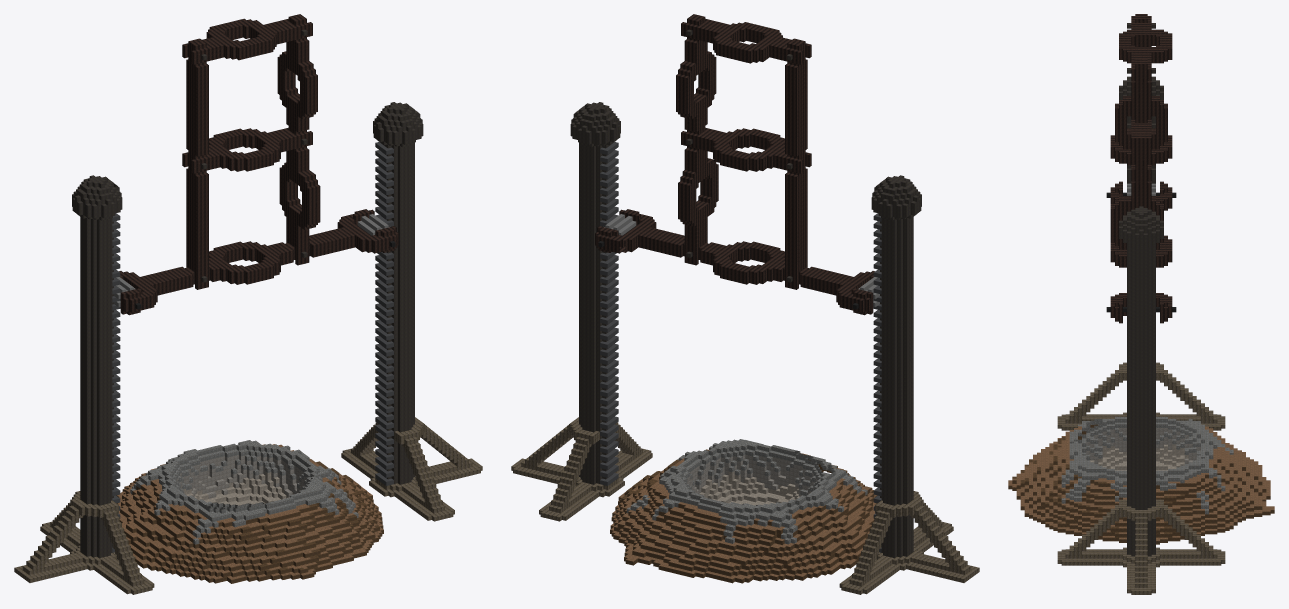
File: frame.fbx
The picture shows the model from 3 angles, left to right: view 1: azimuth 30°, elevation 25°; view 2: azimuth 150°, elevation 25°; view 3: azimuth 270°, elevation 25°; orthographic projection. The views are drawn at different scales.
Parts seen in each view (by area): view 1: frame; view 2: frame; view 3: frame.
Part boxes in pixels (x1=…): frame: x1=14, y1=14, x2=482, y2=594; frame: x1=511, y1=14, x2=979, y2=594; frame: x1=1008, y1=14, x2=1274, y2=594.
Size of the model in its own units: 11800 by 12200 by 6500.
Materials: 12 (12 with a texture image).
